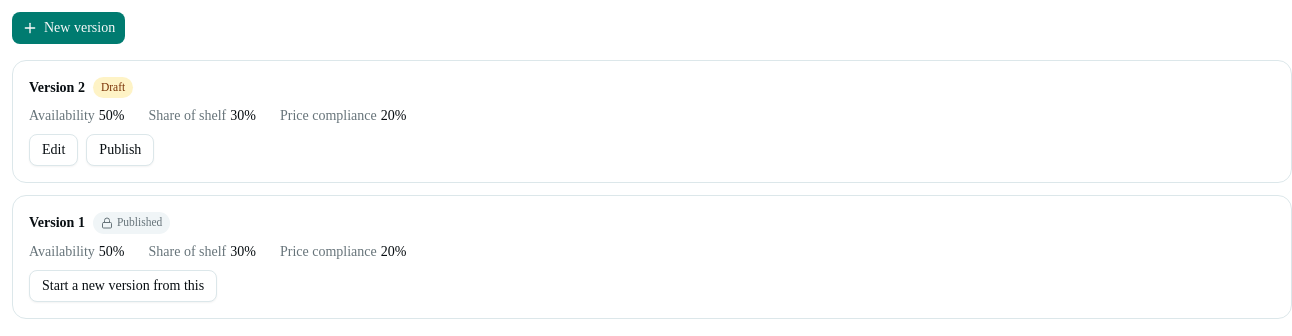
<ScoreWeights> › lets the confirmation be backed out of
Expected: the button "New version" is shown, [12,12,125,44]
Click the button "Publish": x=120, y=150 [86,134,154,166]
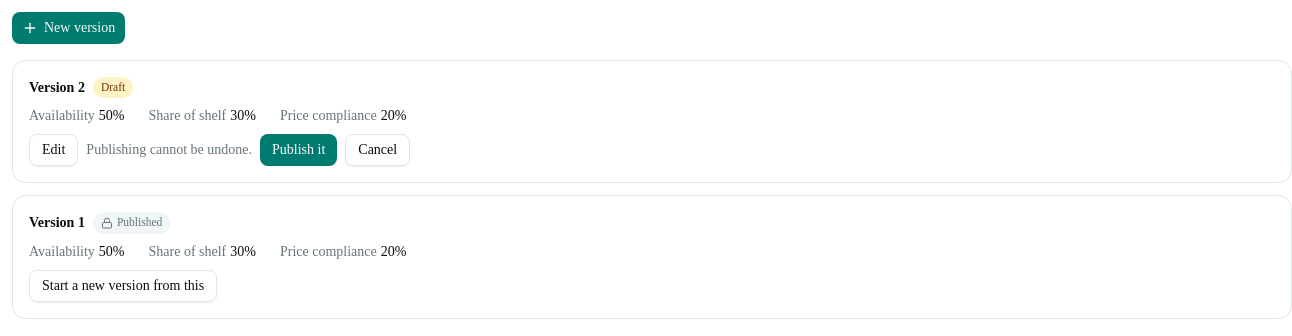
Click the button "Cancel": x=378, y=150 [345,134,410,166]
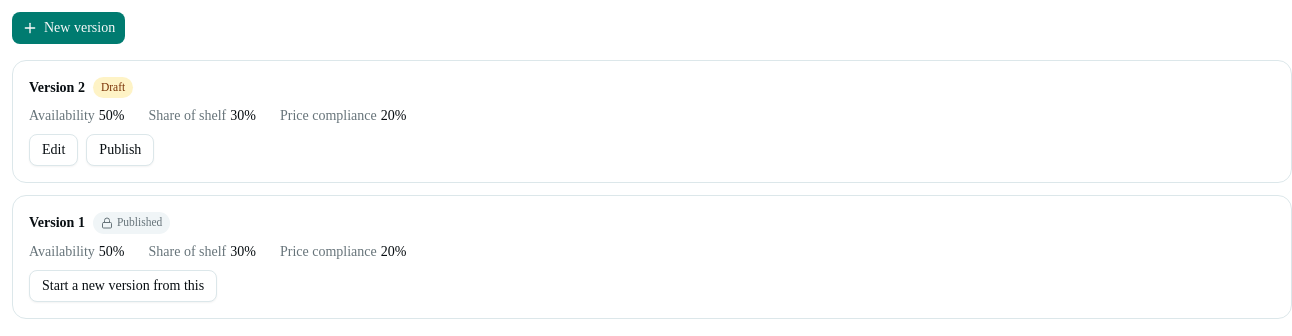
Result: the text "Publishing cannot be undone." is gone
